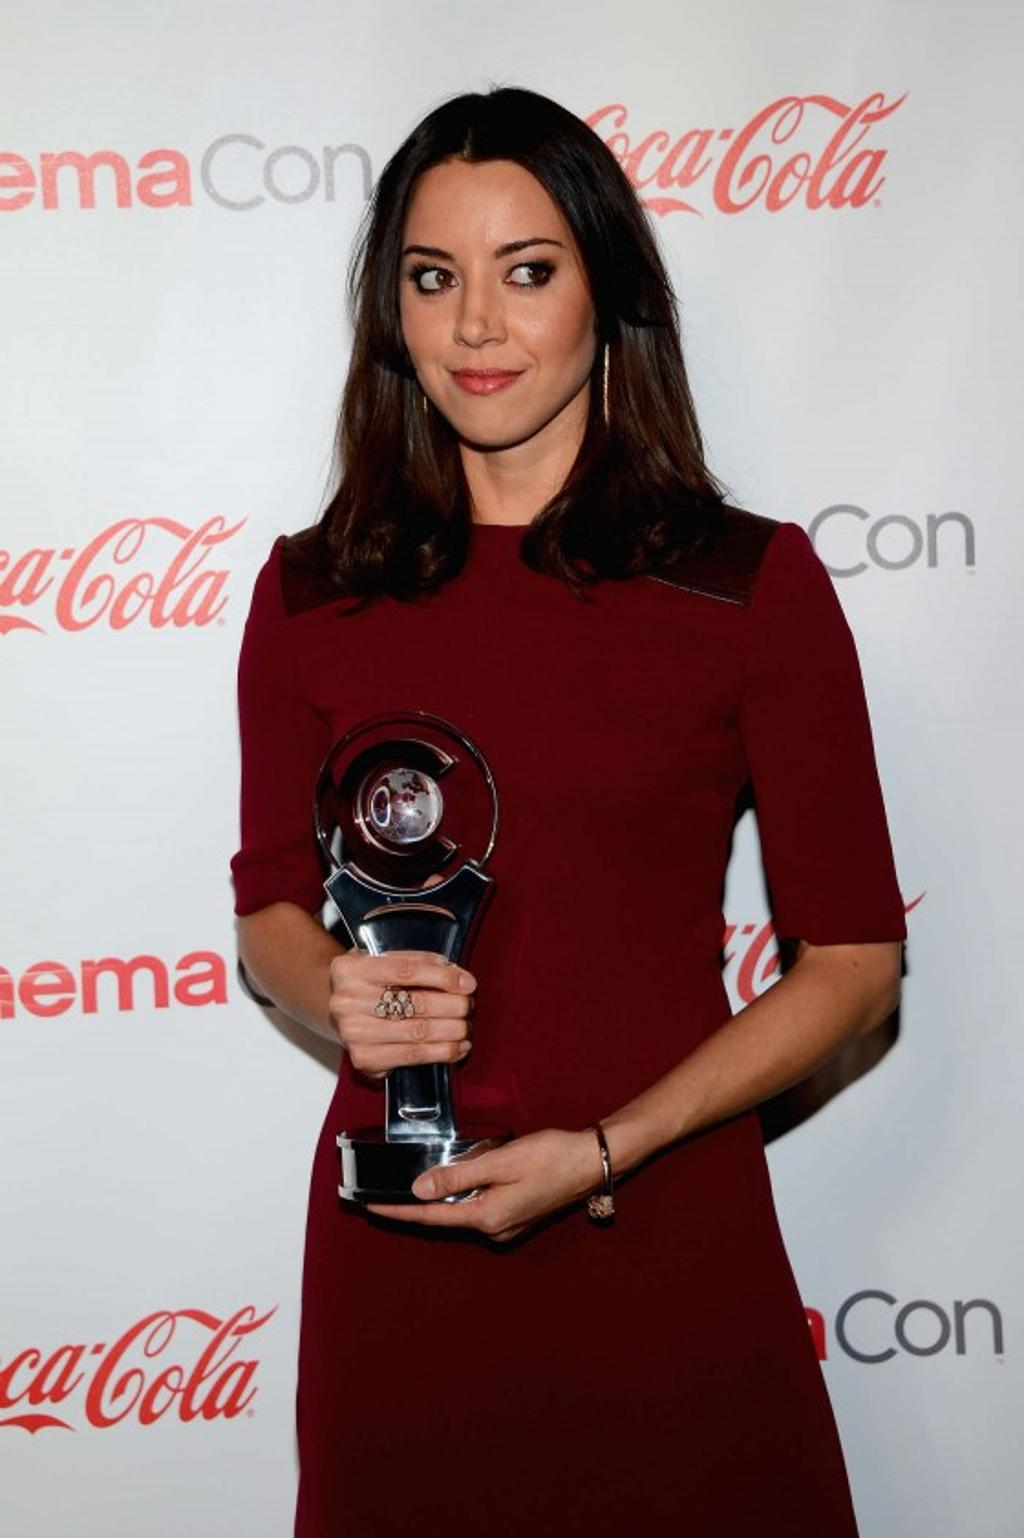face: (399, 159, 603, 441)
